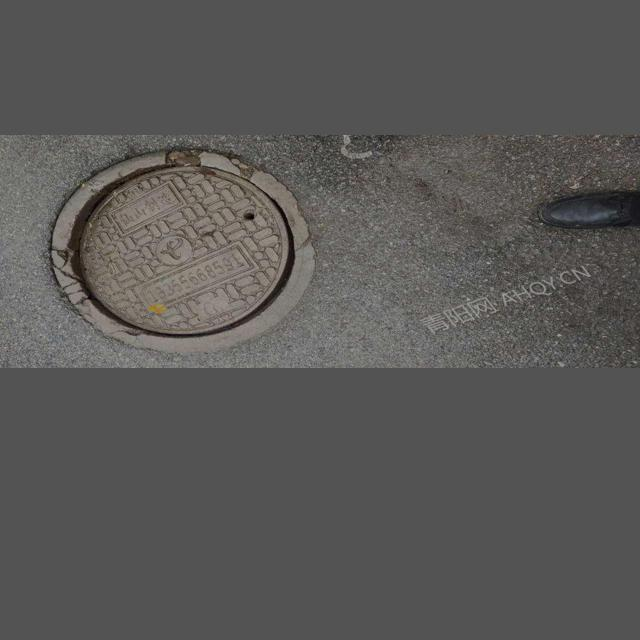circle: (12, 148, 331, 351)
